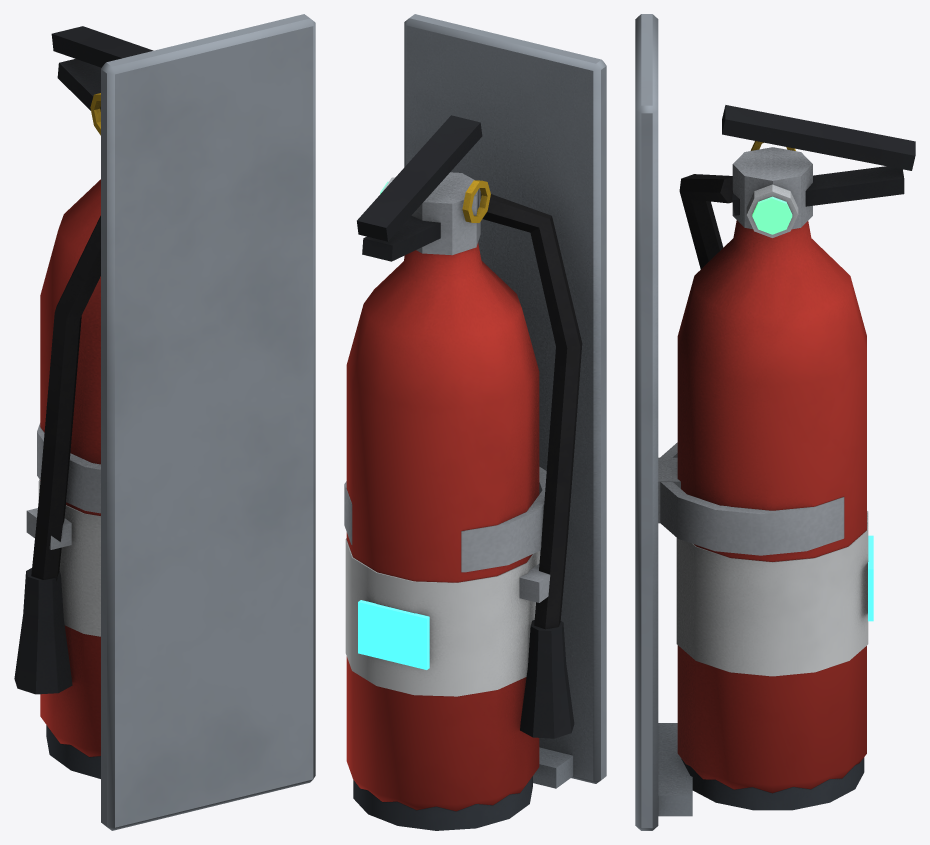
The model's file is extintor.fbx.
3 views of the same model, side by side, from view 1: azimuth 30°, elevation 25°; view 2: azimuth 150°, elevation 25°; view 3: azimuth 270°, elevation 25° (orthographic). The views are drawn at different scales.
Parts seen in each view (by area): view 1: extintor; view 2: extintor, extintor_neon; view 3: extintor, extintor_verde_neon.
Part boxes in pixels (x1,y1,x2,y2): extintor: [14, 14, 315, 830]; extintor: [344, 14, 606, 830]; extintor_neon: [358, 600, 429, 669]; extintor: [635, 14, 915, 830]; extintor_verde_neon: [752, 196, 792, 234].
Size of the model in its own units: 0.4502 by 1.4 by 0.49.
2 materials, 2 textured.
